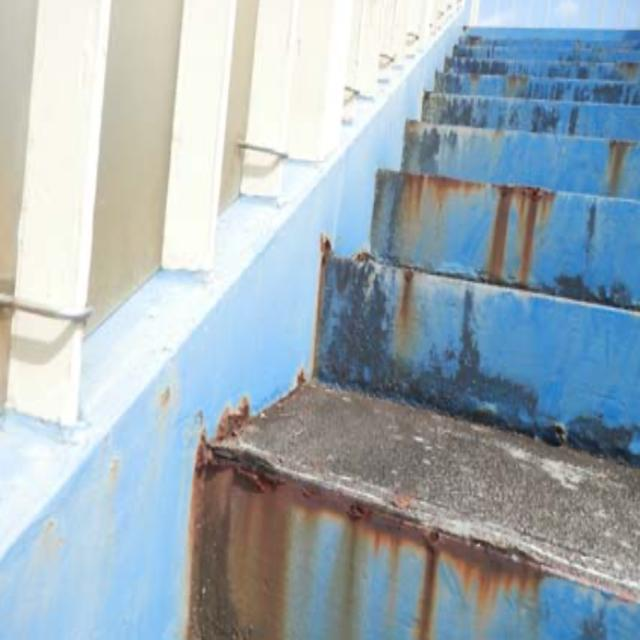corrosion: (174, 374, 523, 640), (383, 147, 558, 312)
